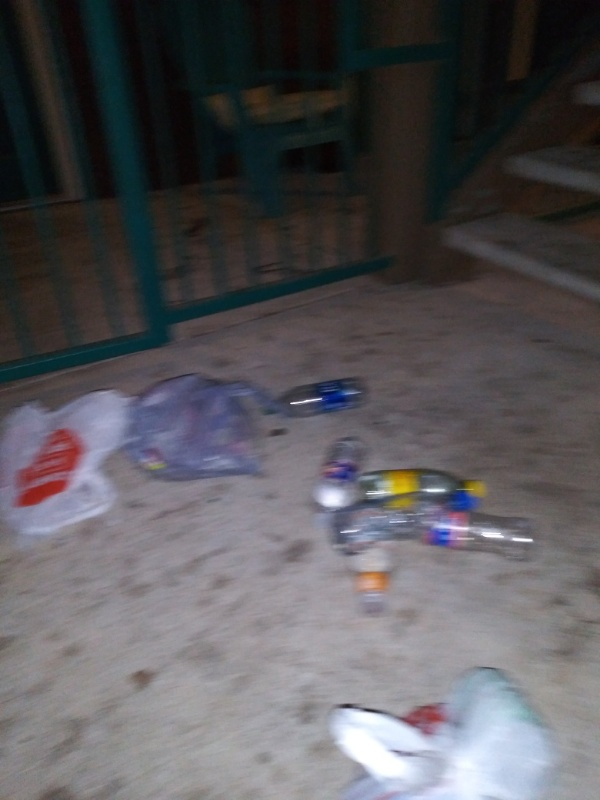bottle: (326, 490, 477, 554), (392, 509, 540, 560), (256, 373, 373, 425), (358, 469, 494, 510), (344, 511, 396, 617), (307, 432, 373, 511)
